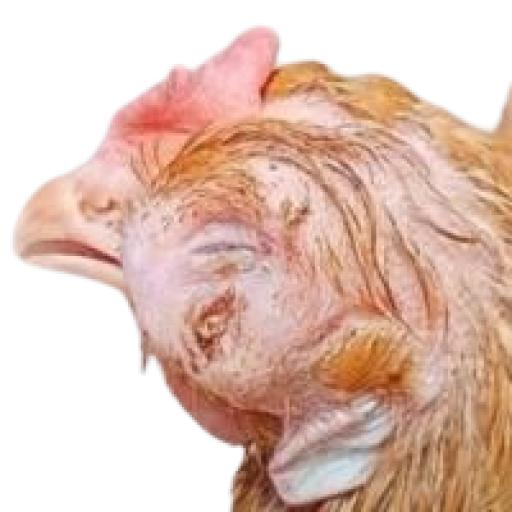disease: (136, 160, 349, 406)
